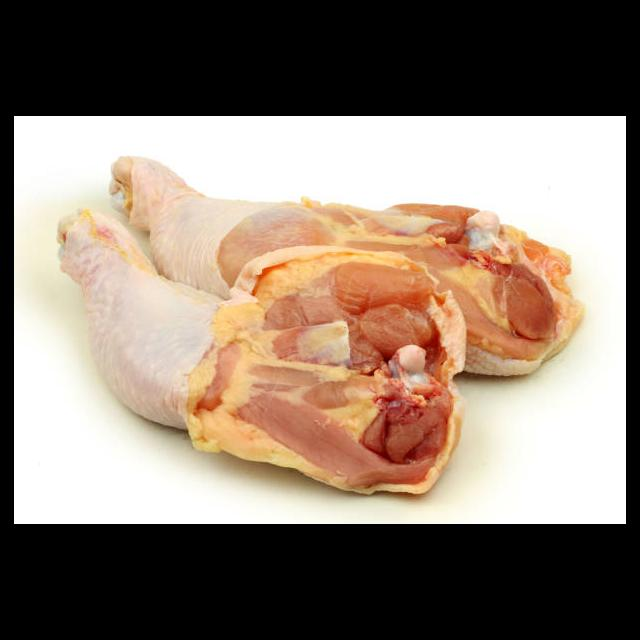chicken: (55, 155, 586, 499)
